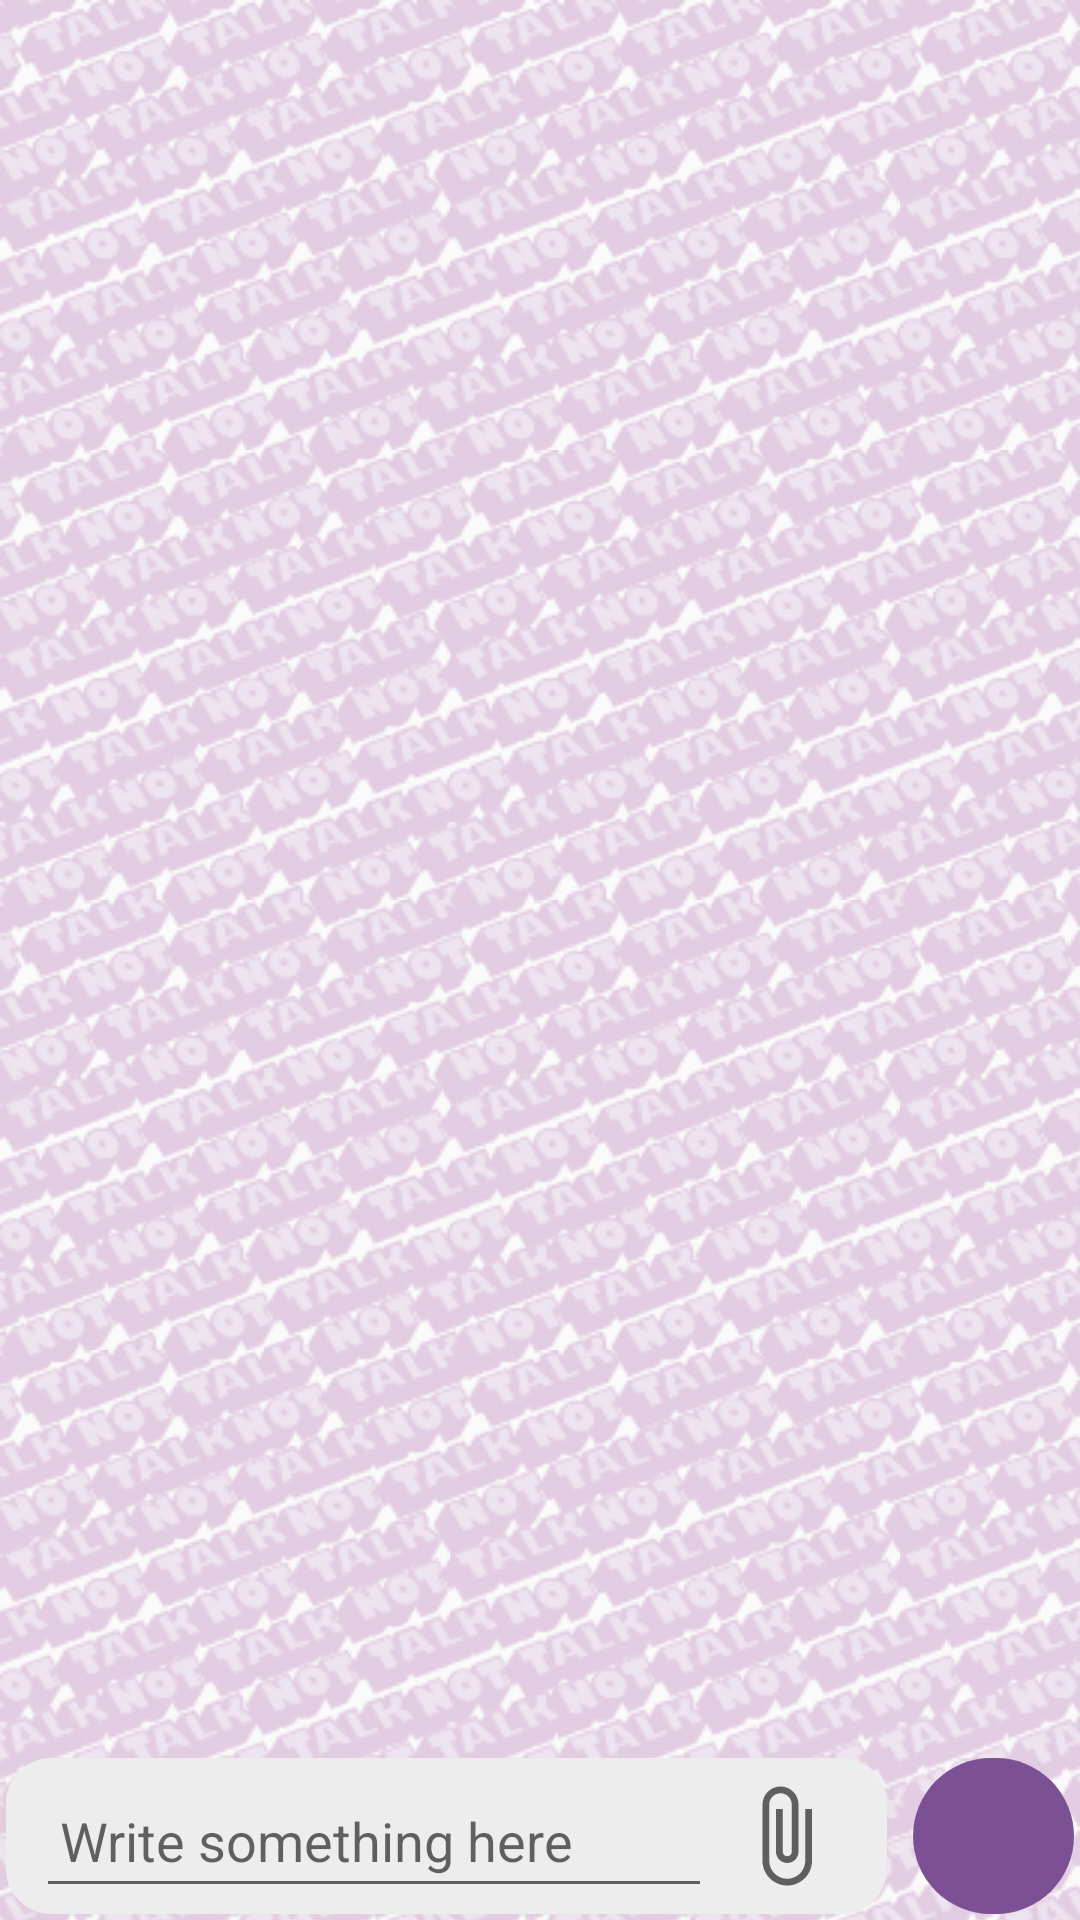

Screen size 1080x1920. Icon name, then its center in pixels as (x=x, y=y):
attachment: (x=787, y=1836)
